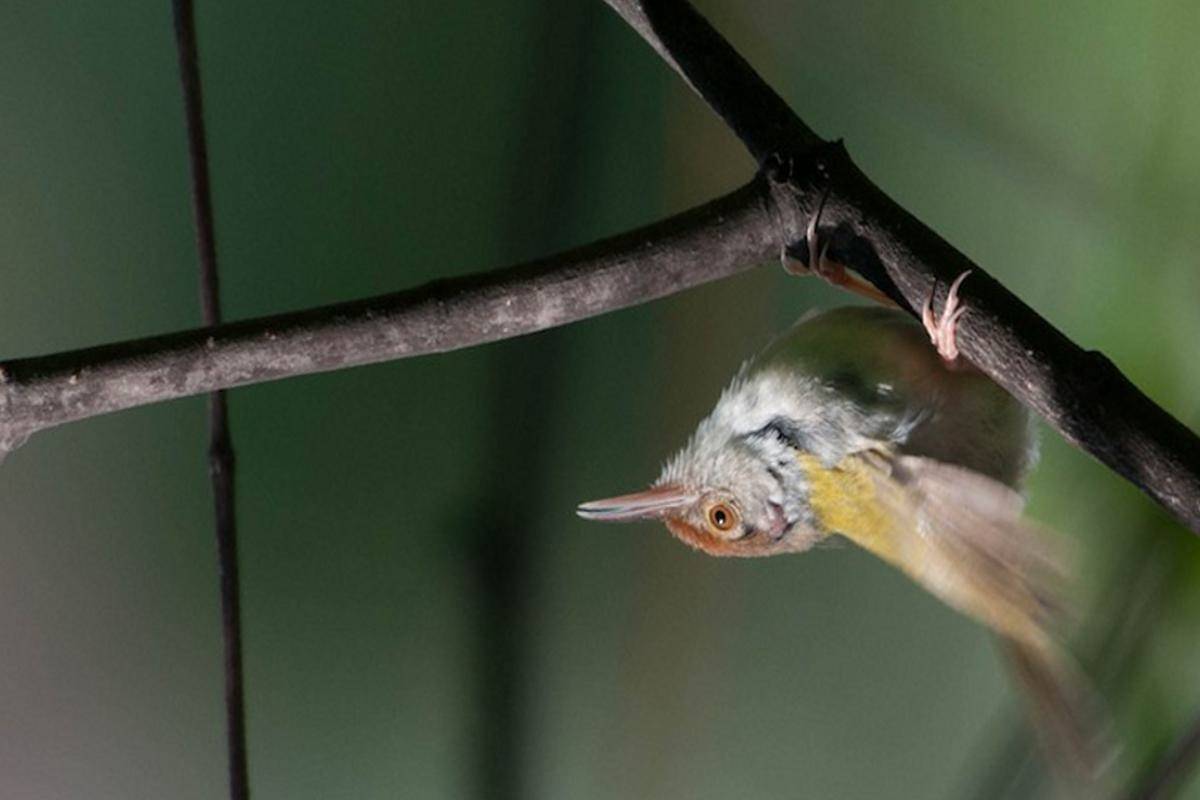tailorbird: (531, 266, 1083, 595)
